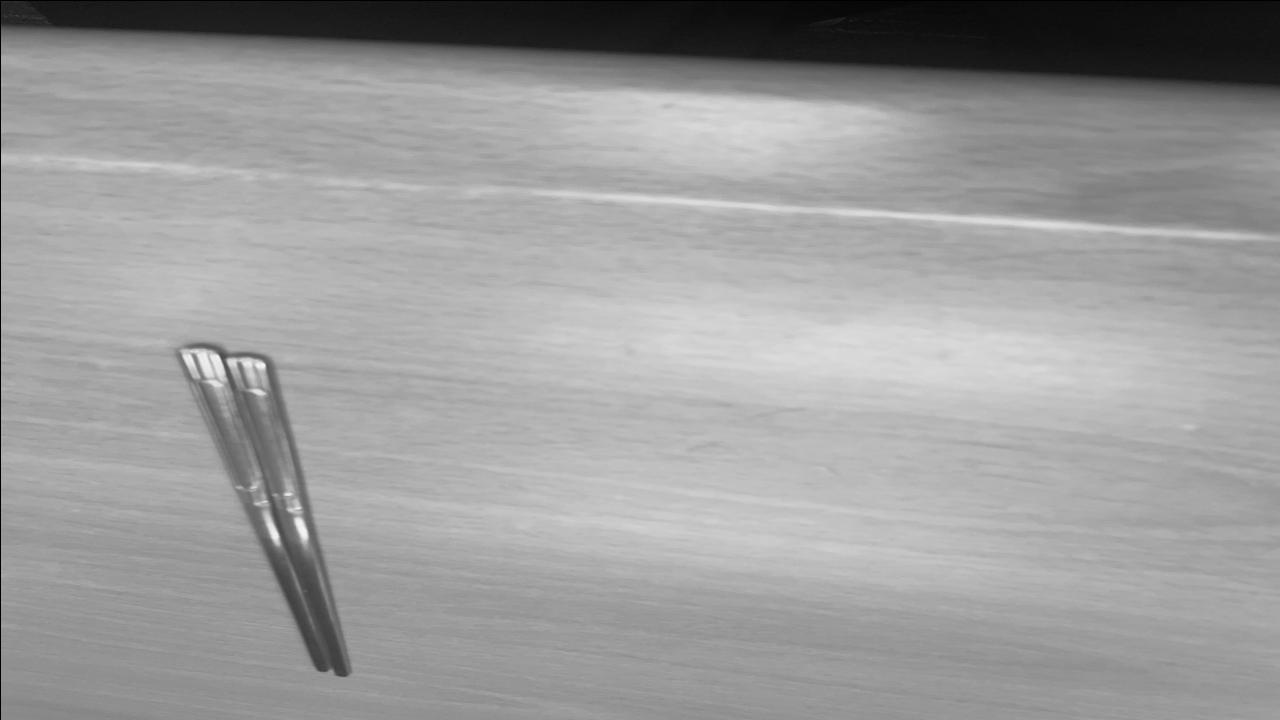chopstick: (182, 349, 346, 676)
